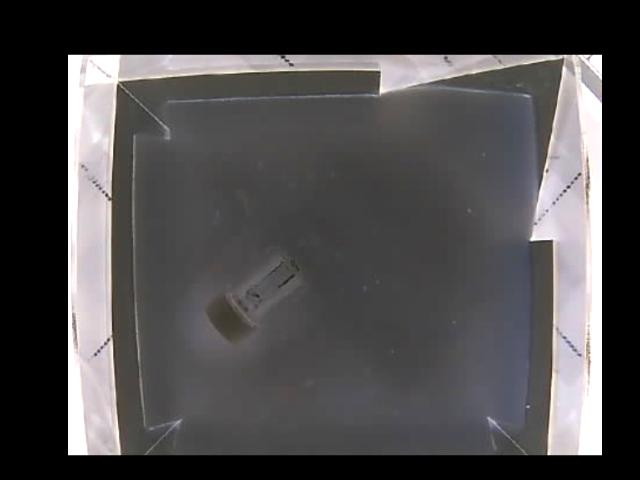Bottle: (203, 254, 304, 345)
